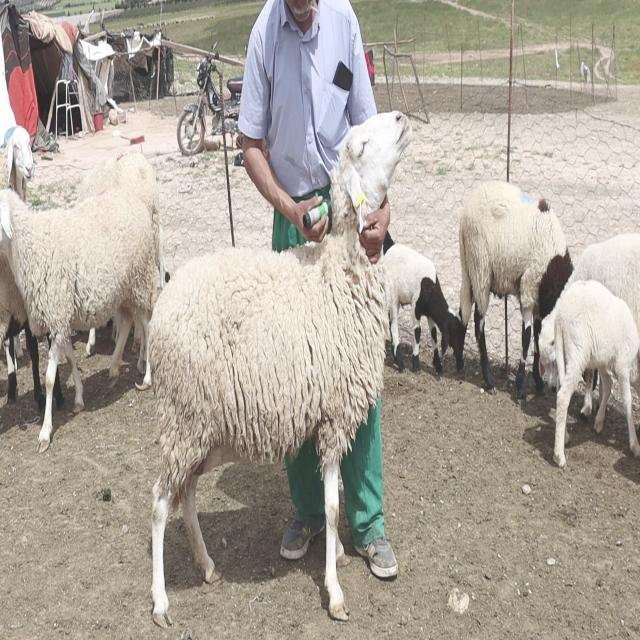Score_3: (147, 111, 413, 627)
